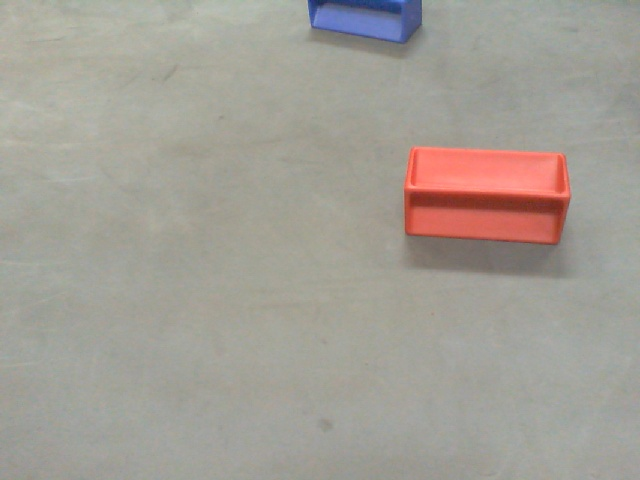BlueSample: (301, 3, 426, 42)
RedSample: (400, 146, 577, 249)
